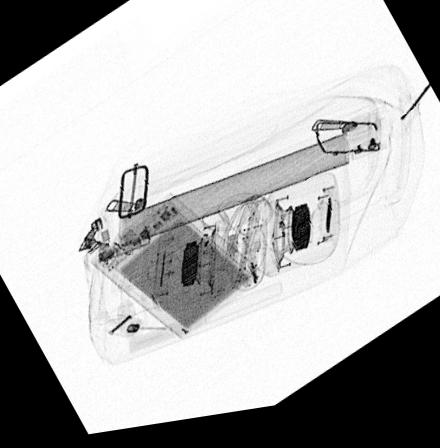Powerbank: (90, 198, 255, 348)
